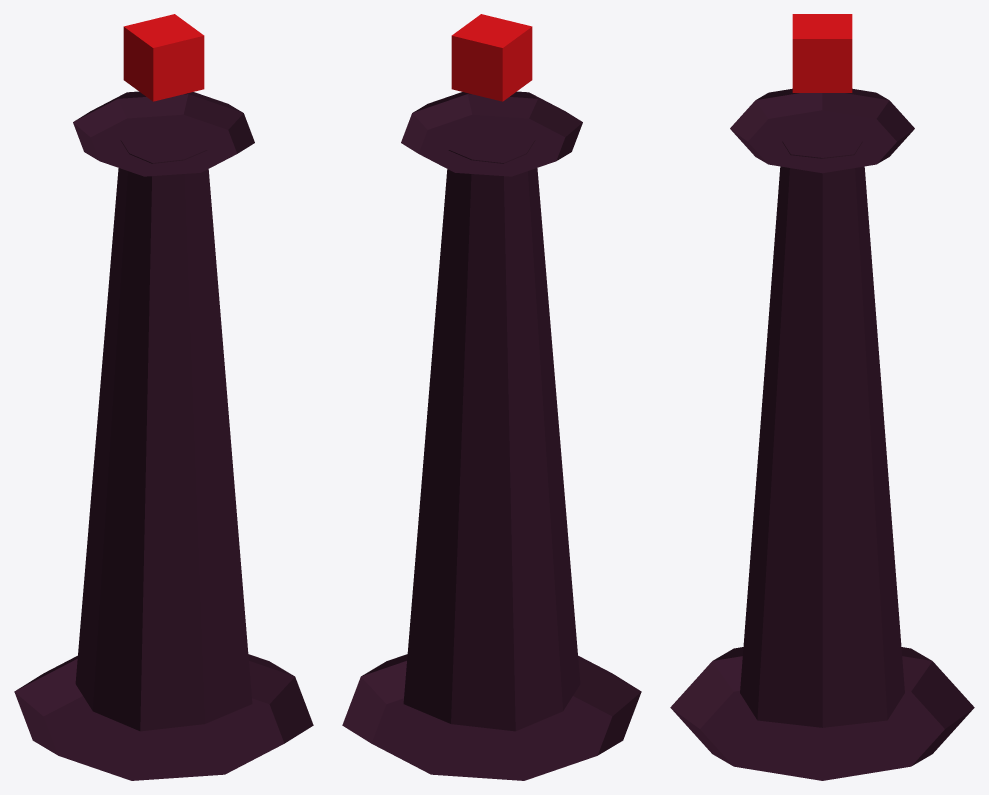
The model's file is J_Big_Torch_JAM.fbx.
The picture shows the model from 3 angles, left to right: view 1: azimuth 30°, elevation 25°; view 2: azimuth 150°, elevation 25°; view 3: azimuth 270°, elevation 25°; orthographic projection.
Visible parts, largest first — view 1: Cube.003; view 2: Cube.003; view 3: Cube.003.
Boxes of the visible parts, x1,y1,x2,y2 form: Cube.003: (14, 14, 313, 780); Cube.003: (342, 14, 641, 780); Cube.003: (670, 14, 974, 780).
Bounding box in the file's own units: 285 × 725 × 285.
